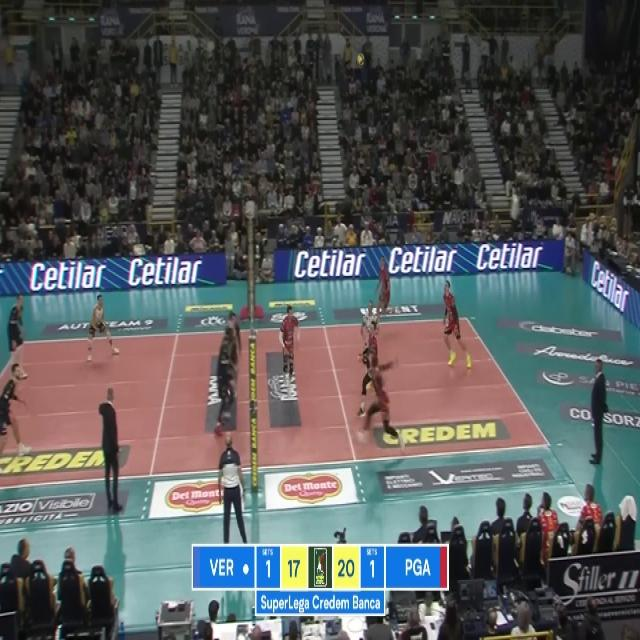volleyball court: (0, 312, 552, 487)
